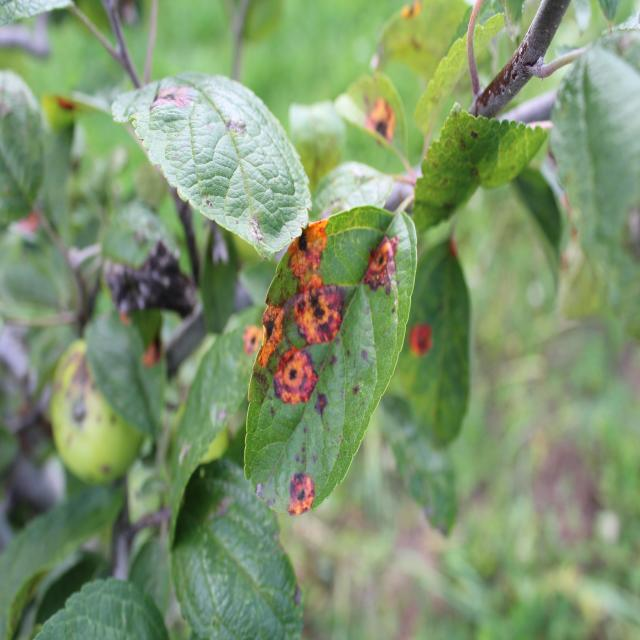Rust: (286, 280, 351, 346), (272, 346, 323, 424), (281, 217, 336, 279), (362, 228, 405, 304), (352, 86, 399, 155), (251, 295, 285, 374), (283, 469, 318, 522)
